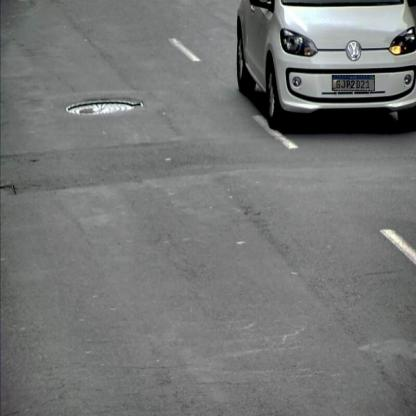PlacaM: (332, 75, 375, 91)
